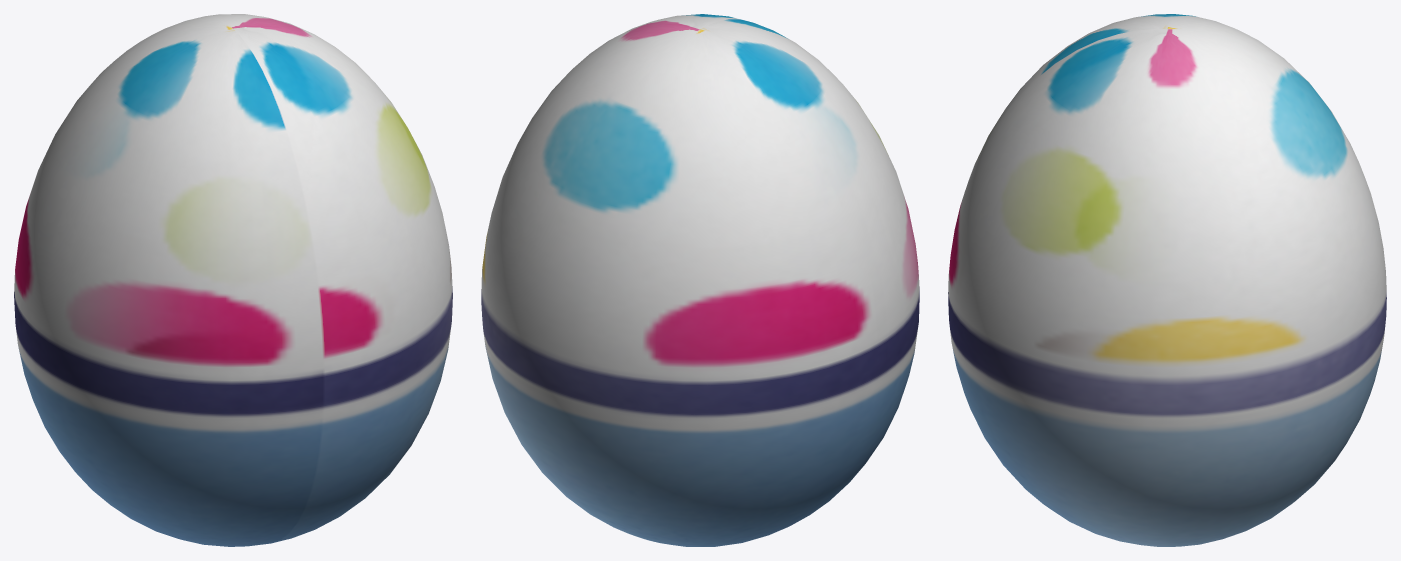
File: mcdonalds_easter_demo_mcfluryy.fbx
3 views of the same model, side by side, from view 1: azimuth 30°, elevation 25°; view 2: azimuth 150°, elevation 25°; view 3: azimuth 270°, elevation 25° (orthographic).
Visible parts, largest first — view 1: big_mac; view 2: big_mac; view 3: big_mac.
Part boxes in pixels (<box>): big_mac: <box>14,14,452,546</box>; big_mac: <box>481,14,919,546</box>; big_mac: <box>948,14,1386,546</box>.
Bounding box in the file's own units: 184 × 231 × 184.
1 material, 1 textured.
